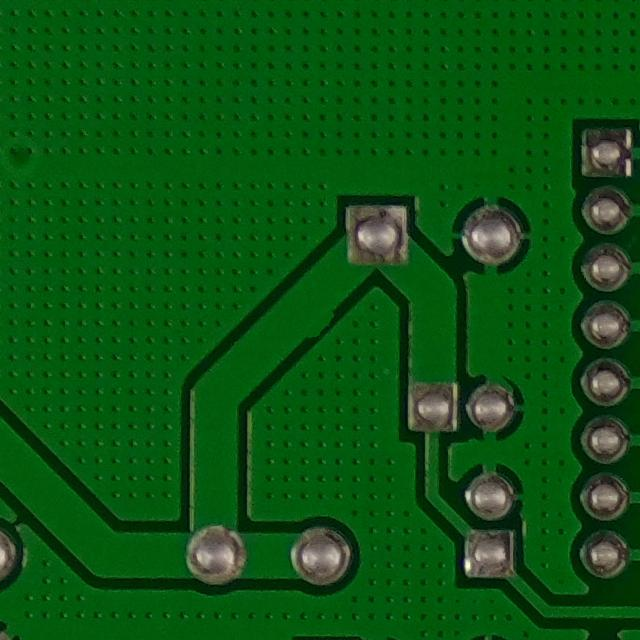spur: (284, 289, 356, 351)
